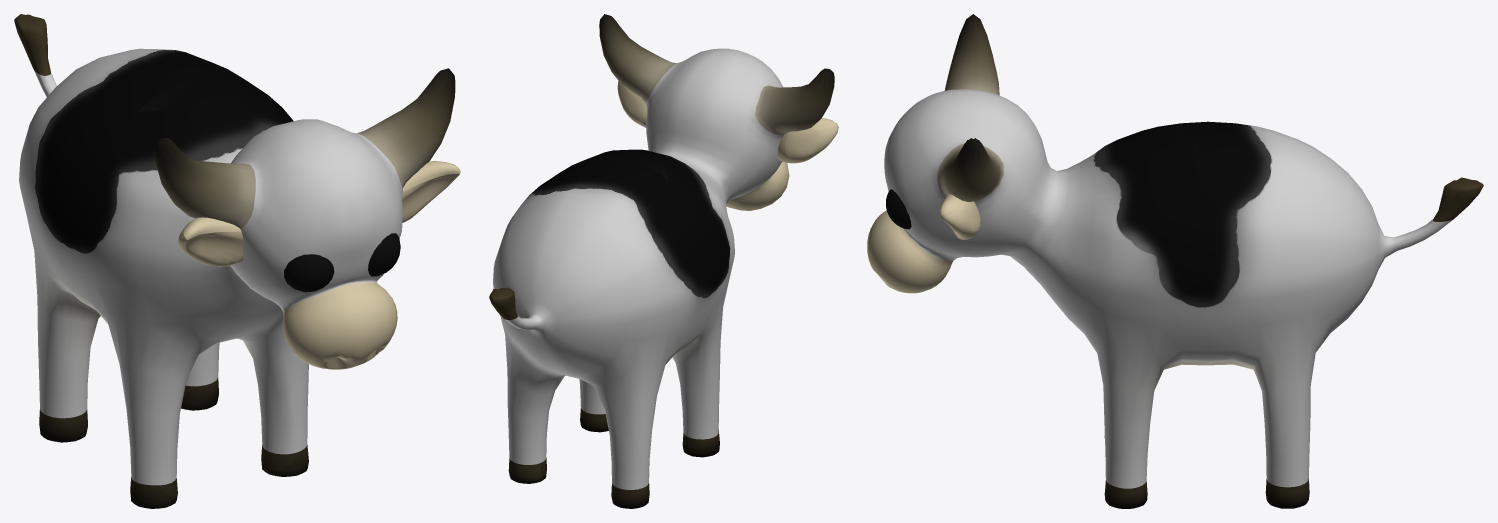
Rendered from MyCow.fbx.
3 renders of one model, left to right at view 1: azimuth 30°, elevation 25°; view 2: azimuth 150°, elevation 25°; view 3: azimuth 270°, elevation 25°, orthographic. The views are drawn at different scales.
Visible parts, largest first — view 1: cow, ear_right, ear_left, eyeball_right, eyeball_left; view 2: cow, ear_right, ear_left; view 3: cow, ear_left.
Part boxes in pixels (bbox=[...]): cow: bbox=[14, 14, 455, 508]; ear_right: bbox=[178, 217, 243, 266]; ear_left: bbox=[402, 161, 460, 222]; eyeball_right: bbox=[284, 254, 334, 292]; eyeball_left: bbox=[368, 233, 400, 276]; cow: bbox=[489, 14, 834, 508]; ear_right: bbox=[777, 118, 838, 163]; ear_left: bbox=[617, 81, 647, 127]; cow: bbox=[867, 14, 1483, 508]; ear_left: bbox=[939, 194, 980, 239].
Bounding box in the file's own units: 2.35 × 3.37 × 4.73.
